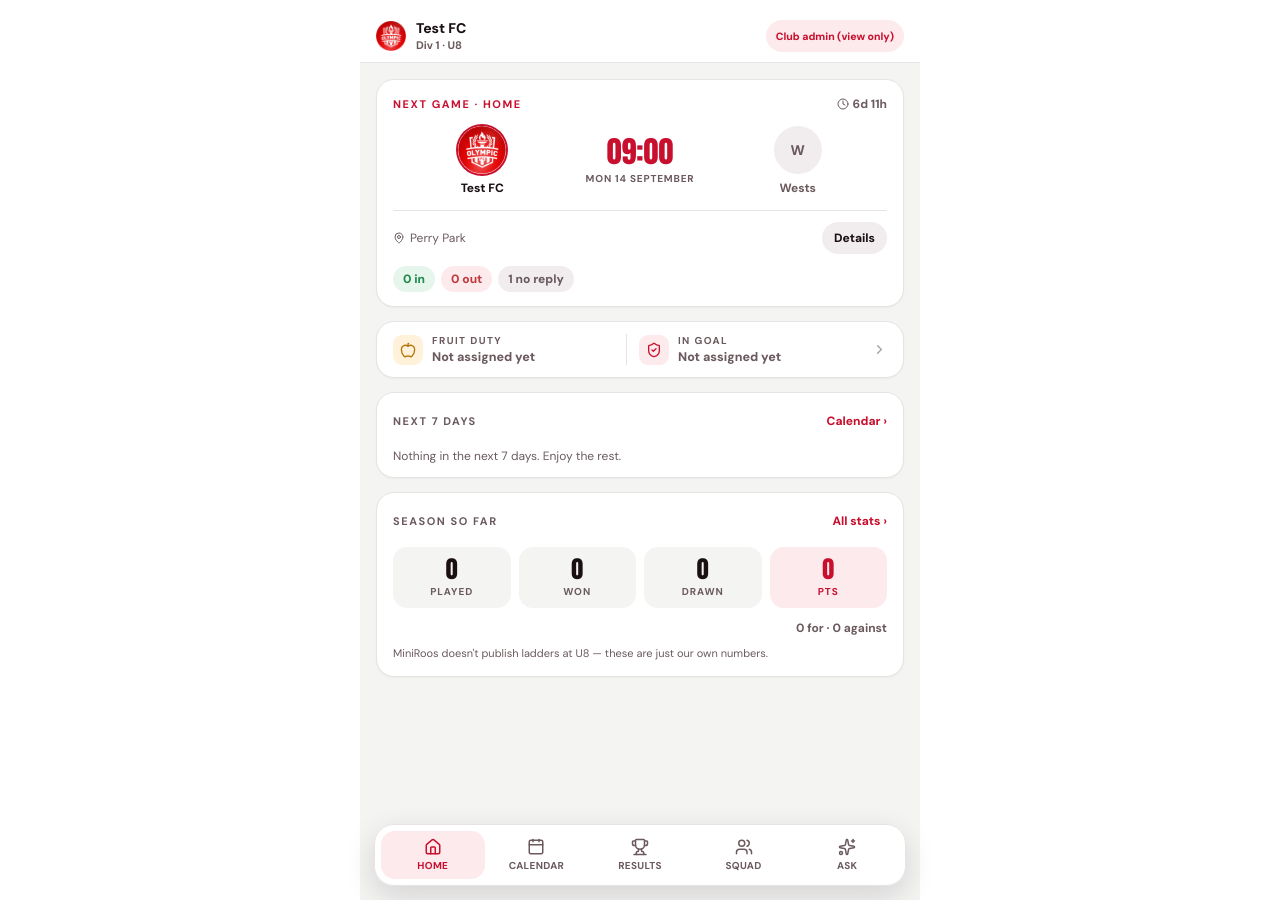
App — account-mode roles (/api/me) › a view-only club admin gets the read-only hat, a Club admin link and no coach or respond rows
The image size is (1280, 900).
Check: the text "Div 1 · U8" is shown, box x1=416 y1=38 x2=462 y2=52
Step 1. Click the button with aria-label "Viewing as" → {"x": 835, "y": 36}, box x1=766 y1=20 x2=904 y2=52
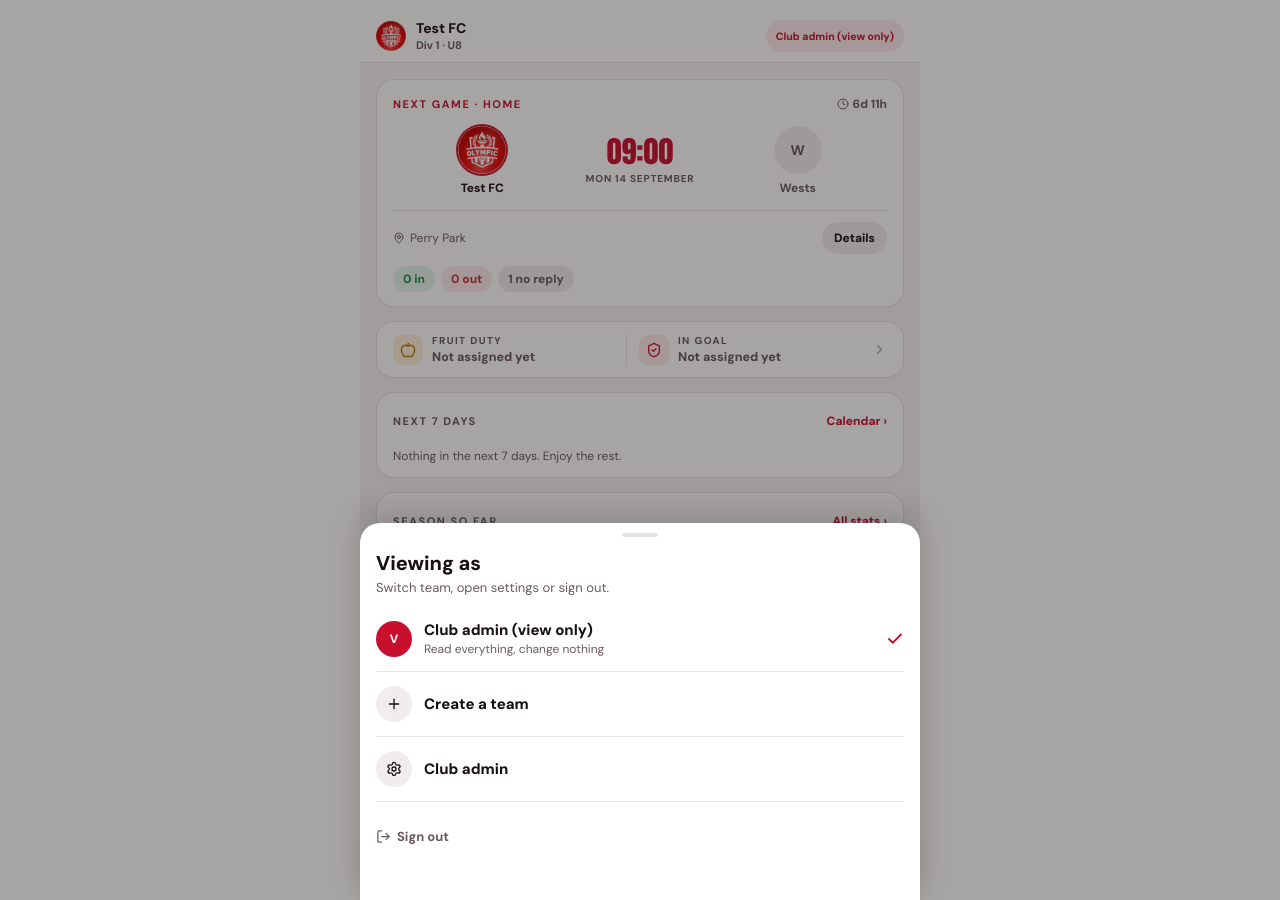
Check: the text "Read everything, change nothing" is shown, box x1=424 y1=641 x2=604 y2=657
